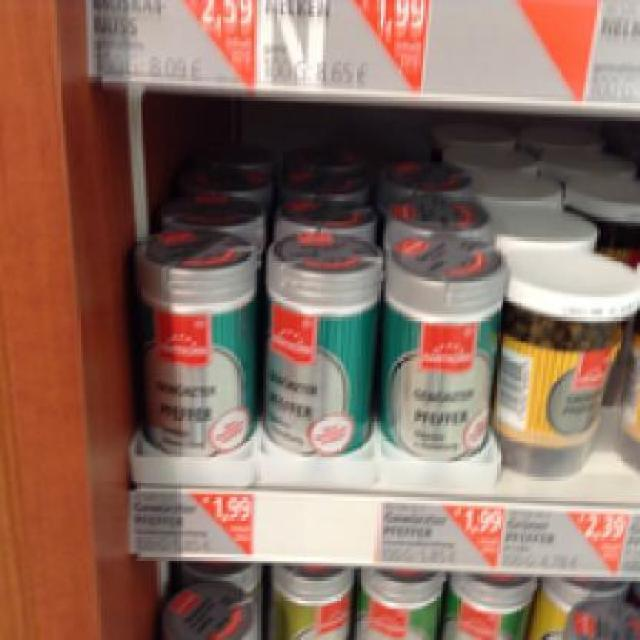Spices: (497, 245, 637, 478), (377, 235, 506, 454), (132, 226, 258, 448), (260, 228, 377, 448)
